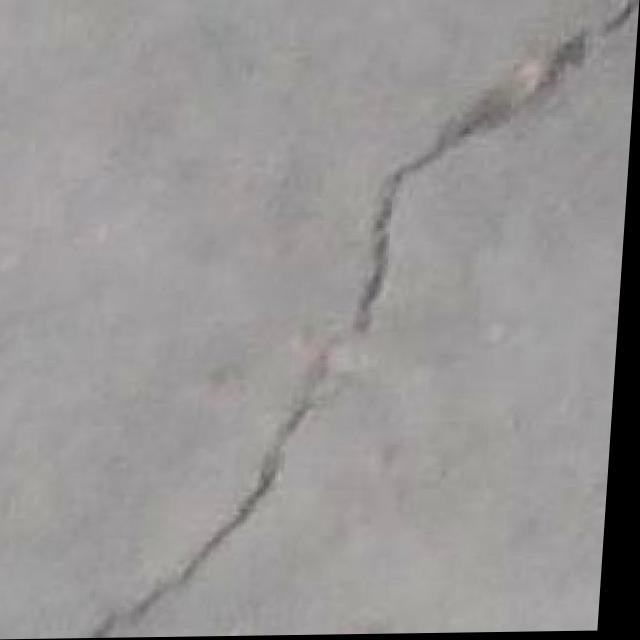Crack: (89, 0, 640, 639)
